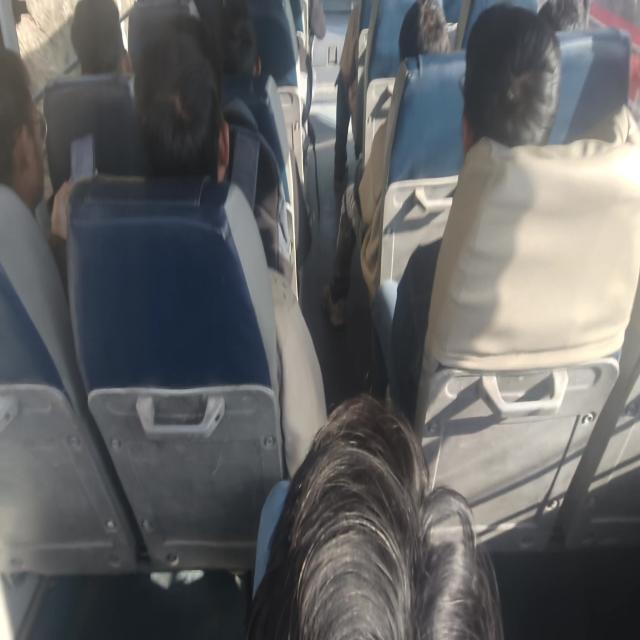person: (382, 2, 638, 424), (129, 8, 328, 478), (246, 392, 504, 638), (321, 0, 451, 329), (0, 45, 80, 409), (42, 0, 135, 195), (131, 15, 230, 182), (536, 0, 639, 145), (332, 2, 362, 193), (70, 0, 132, 76), (398, 0, 452, 61), (537, 0, 590, 32)
